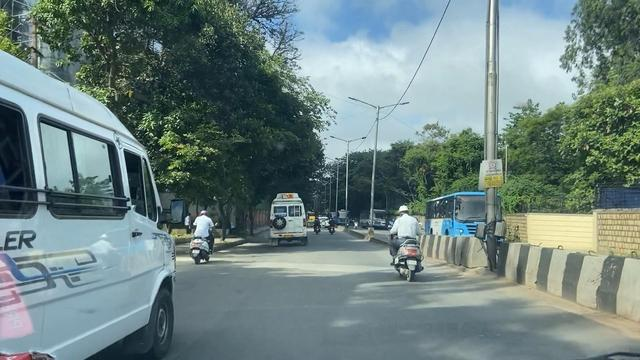HMV: (2, 52, 180, 360), (269, 193, 312, 253)
LMV: (388, 203, 430, 286), (192, 208, 220, 265)
